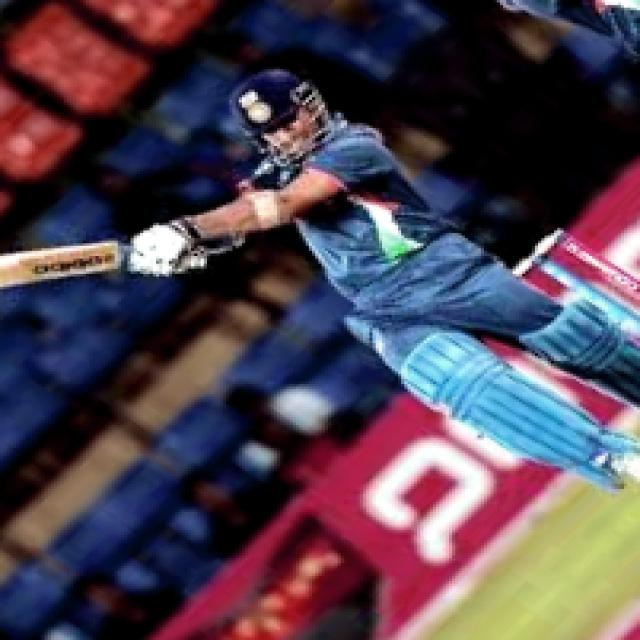toe: (0, 250, 62, 292)
